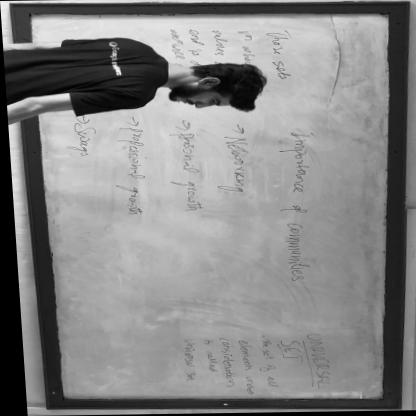Handwritten text: (270, 127, 330, 284), (106, 124, 151, 221), (163, 128, 207, 215), (211, 132, 255, 197), (264, 23, 302, 83), (299, 326, 331, 391), (58, 116, 102, 161), (233, 22, 266, 69), (250, 337, 277, 391), (231, 336, 252, 396), (173, 334, 196, 384), (185, 24, 208, 72), (216, 334, 235, 392), (274, 333, 302, 365), (207, 26, 234, 57), (196, 332, 214, 377)
Lecturer: (14, 35, 269, 130)
Whiteboard: (24, 9, 398, 400)
